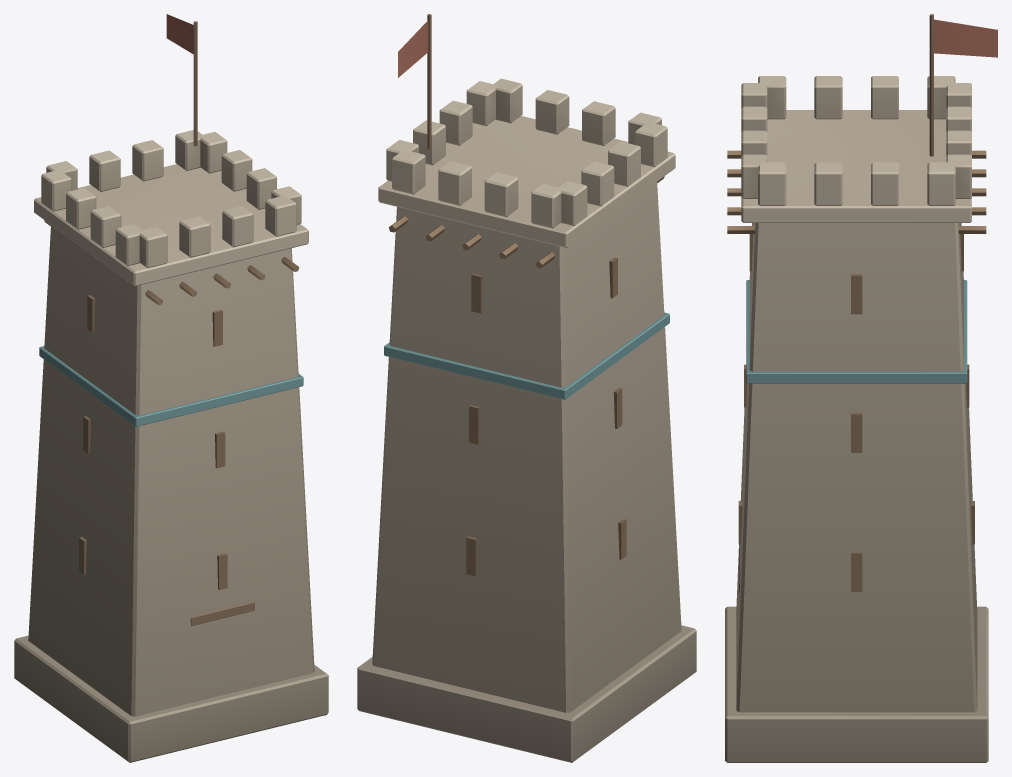
Rendered from watchtower.glb.
The picture shows the model from 3 angles, left to right: view 1: azimuth 30°, elevation 25°; view 2: azimuth 150°, elevation 25°; view 3: azimuth 270°, elevation 25°; orthographic projection. The views are drawn at different scales.
Visible parts, largest first — view 1: watchtower; view 2: watchtower; view 3: watchtower.
Boxes of the visible parts, x1=… form: watchtower: x1=14, y1=14, x2=328, y2=762; watchtower: x1=357, y1=14, x2=696, y2=762; watchtower: x1=725, y1=14, x2=997, y2=762.
Bounding box in the file's own units: 5.6 × 17 × 5.8.
